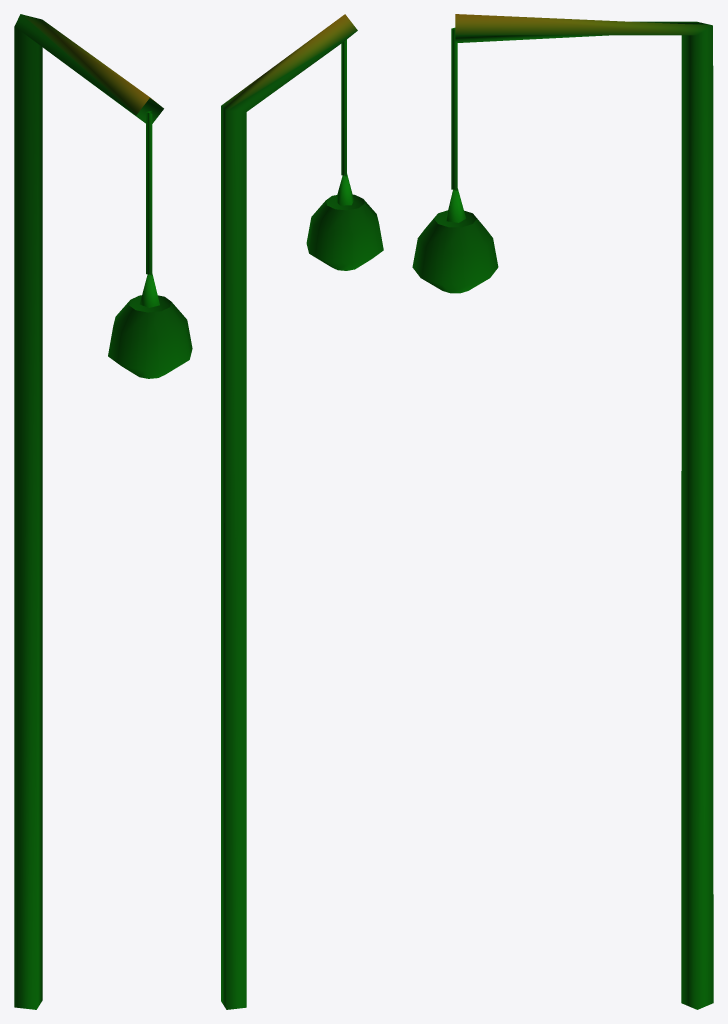
Rendered from hm_oil_lamp.glb.
3 views of the same model, side by side, from view 1: azimuth 30°, elevation 25°; view 2: azimuth 150°, elevation 25°; view 3: azimuth 270°, elevation 25° (orthographic). The views are drawn at different scales.
Parts seen in each view (by area): view 1: hm_oil_lamp; view 2: hm_oil_lamp; view 3: hm_oil_lamp.
Part boxes in pixels (x1=…): hm_oil_lamp: x1=14, y1=14, x2=192, y2=1009; hm_oil_lamp: x1=221, y1=14, x2=383, y2=1009; hm_oil_lamp: x1=412, y1=14, x2=713, y2=1009.
Size of what is drawn, in the model's own units: 0.1522 by 2.03 by 0.56.
